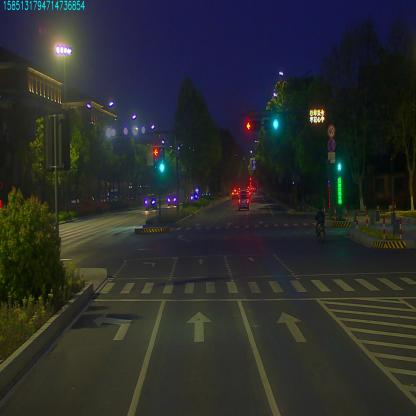traffic-light: (264, 119, 280, 134), (245, 120, 260, 134)
